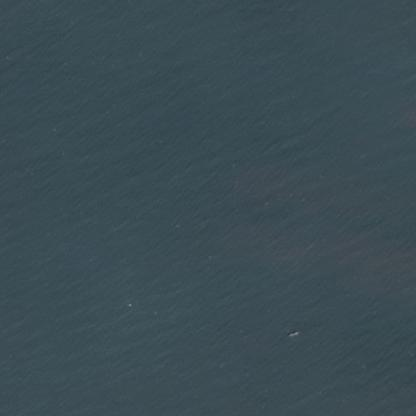ship: (285, 327, 304, 337)
